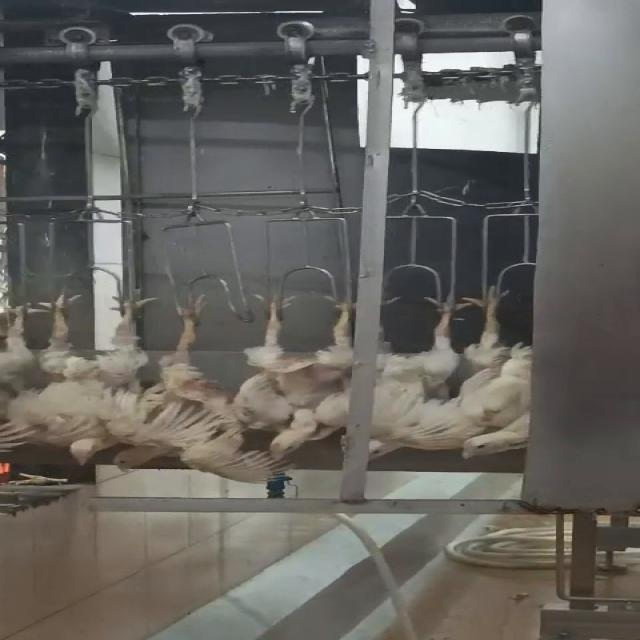chicken: (160, 294, 298, 485), (32, 289, 157, 472), (242, 294, 357, 463), (366, 294, 467, 460), (452, 286, 528, 458), (0, 301, 48, 460)
